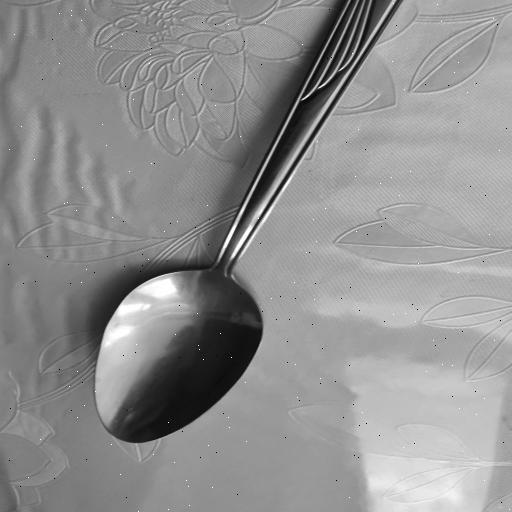spoon: (74, 0, 402, 445)
